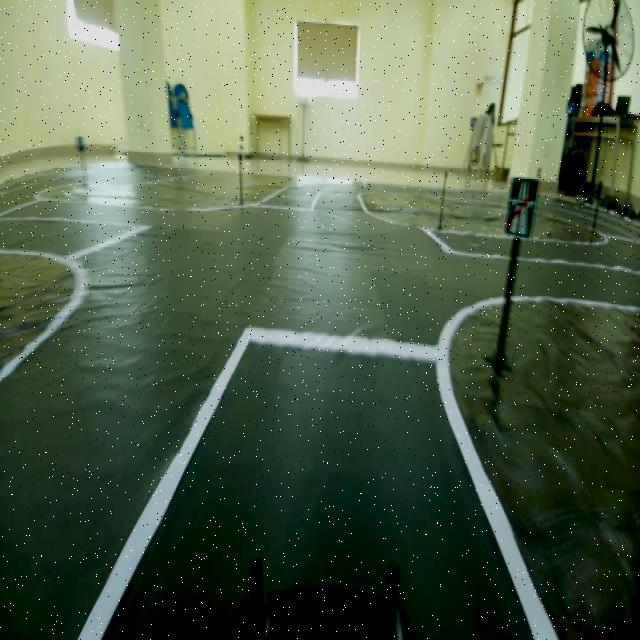highway_exit: (504, 173, 539, 244)
